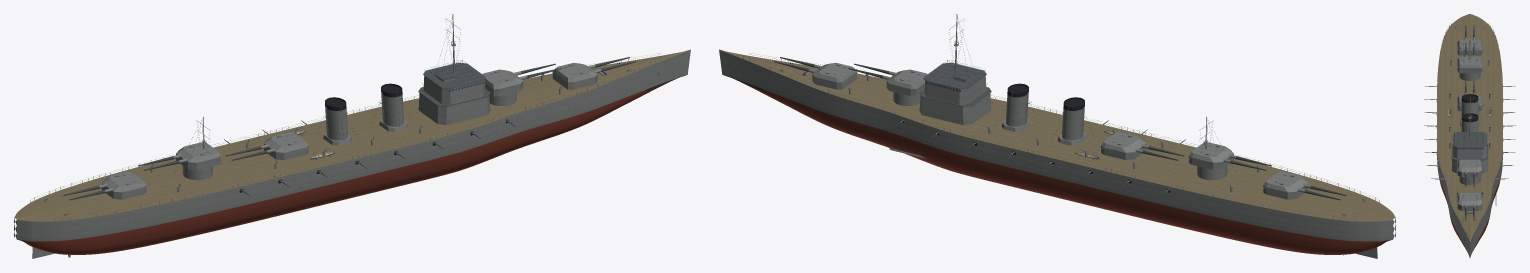
File: amagi.glb
3 views of the same model, side by side, from view 1: azimuth 30°, elevation 25°; view 2: azimuth 150°, elevation 25°; view 3: azimuth 270°, elevation 25° (orthographic). The views are drawn at different scales.
Parts seen in each view (by area): view 1: Amagi class; view 2: Amagi class; view 3: Amagi class.
Part boxes in pixels (box(x1,y1,x2,y2)): Amagi class: box(14, 14, 690, 258); Amagi class: box(719, 14, 1395, 258); Amagi class: box(1424, 14, 1515, 257).
Size of the model in its own units: 228 by 46.54 by 38.22.
Materials: 9 (8 with a texture image).
